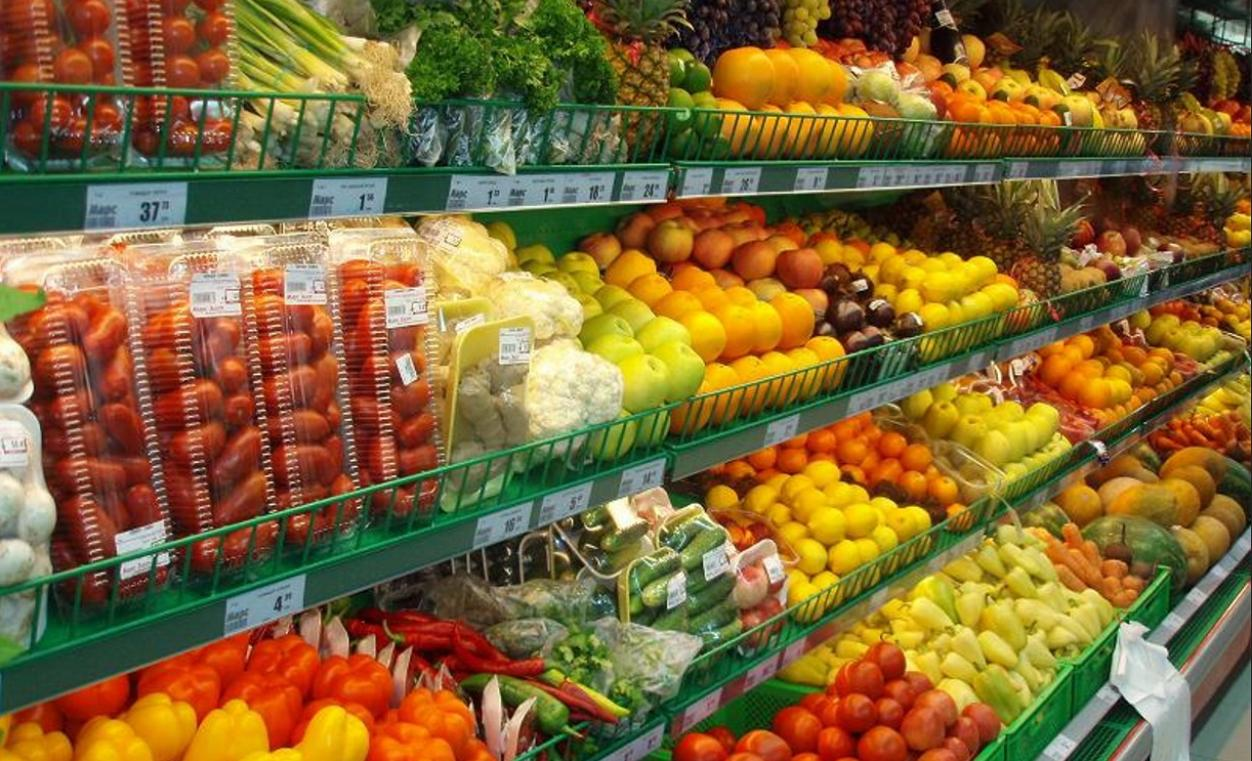cucumber: (626, 506, 737, 699)
ginger: (436, 335, 528, 504)
green apple: (503, 235, 711, 453), (908, 389, 1065, 494)
lemon: (701, 459, 936, 625), (842, 243, 1012, 349)
melon: (1059, 449, 1227, 528), (1140, 453, 1244, 579)
orange: (647, 276, 852, 425)
pineapple: (595, 0, 684, 160), (916, 186, 1031, 265), (1123, 43, 1185, 159), (983, 12, 1085, 69), (1017, 221, 1067, 321)
red apple: (621, 196, 829, 292)
sweet pepper: (0, 638, 520, 761)
tomato: (39, 257, 439, 551), (673, 670, 1008, 761)
watermelon: (1078, 518, 1190, 600)
